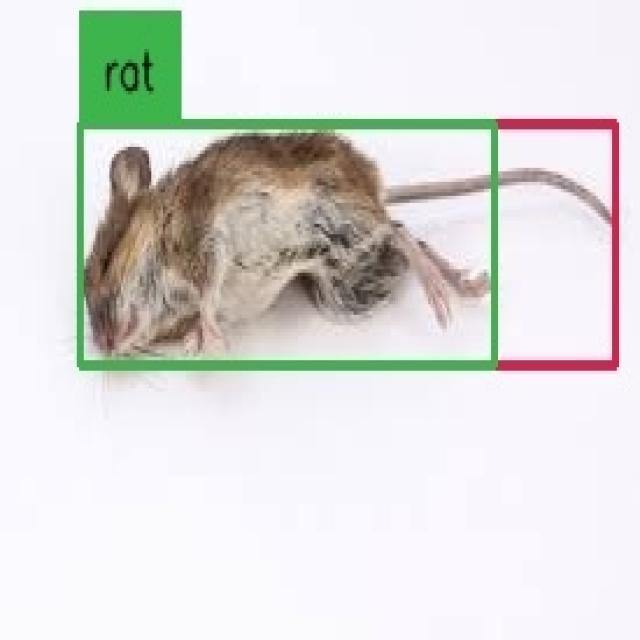rat: (79, 126, 615, 367), (79, 124, 496, 366)
